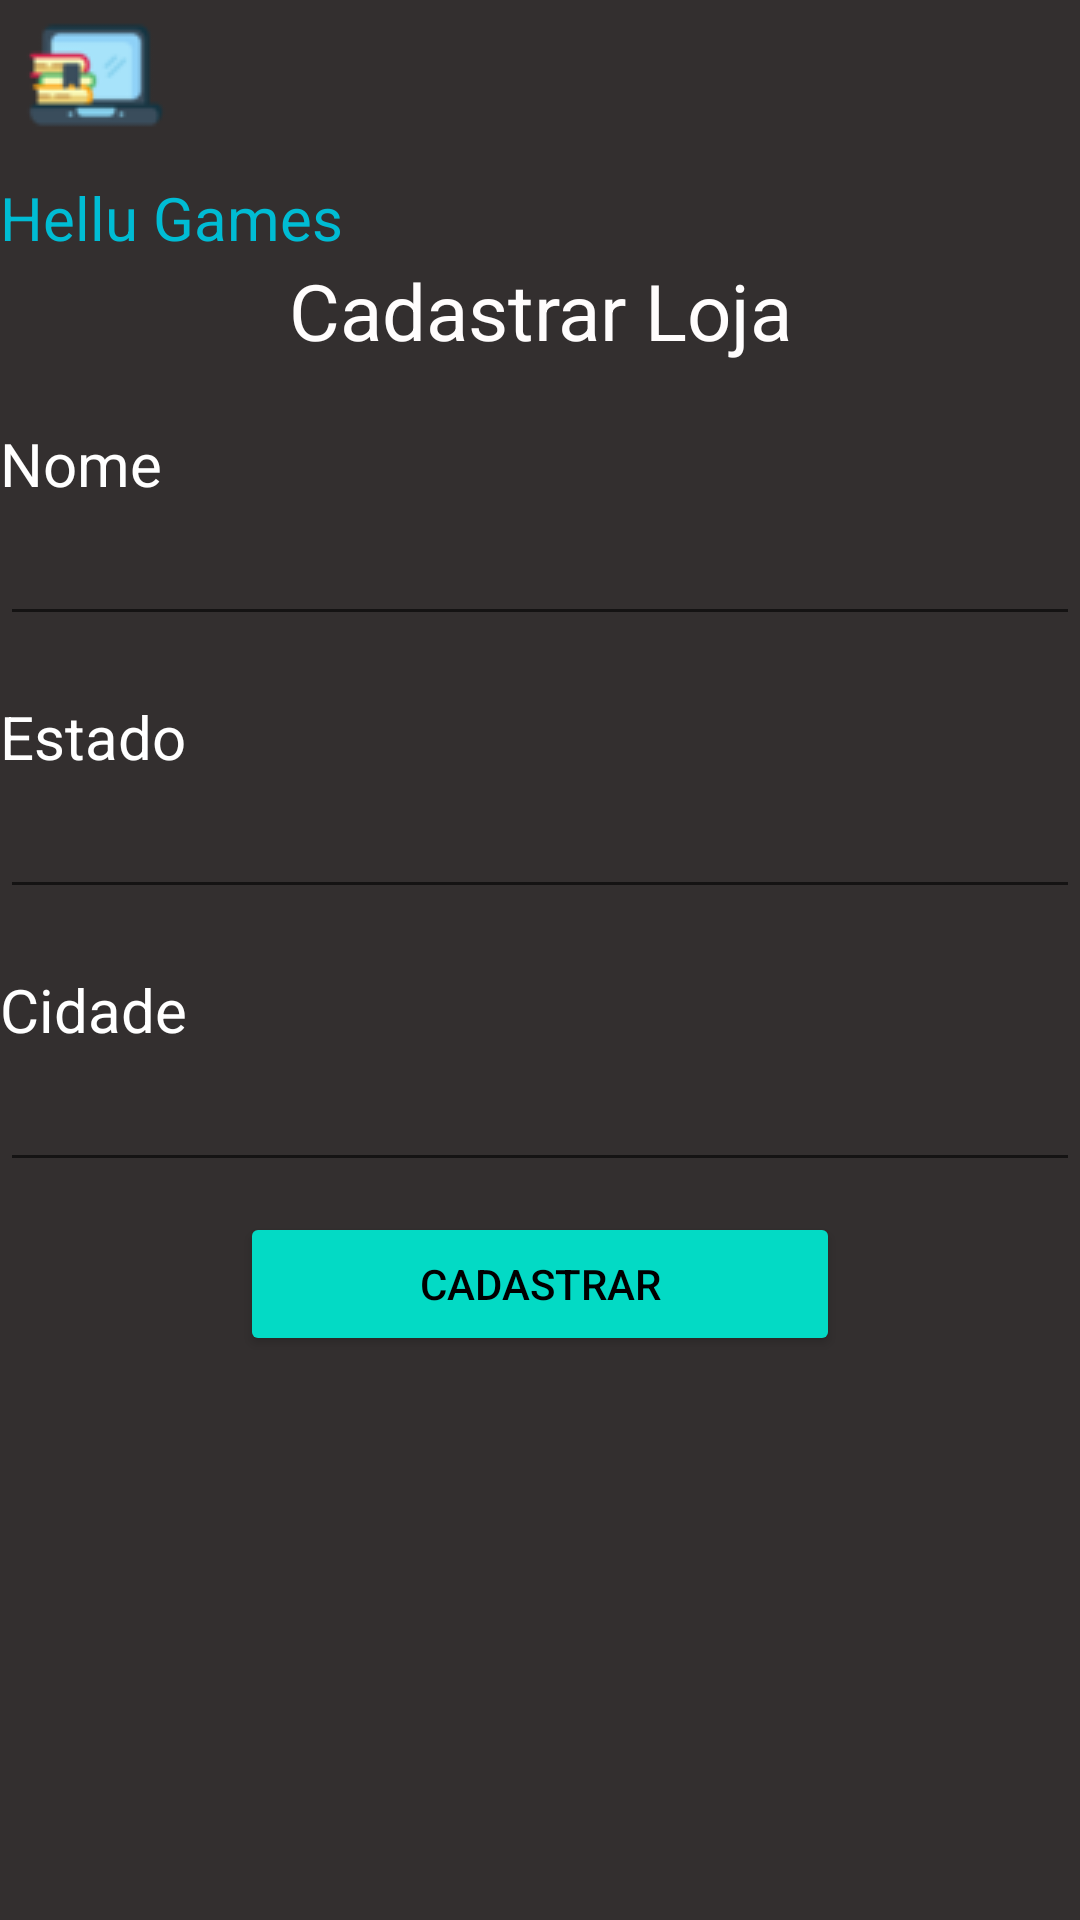

Named icons in this screenshot (1080w x 1920h) and their bounding boxes, [left=x1, top=y1, right=x2, bottom=y2]:
pcicon: [left=29, top=27, right=161, bottom=125]
